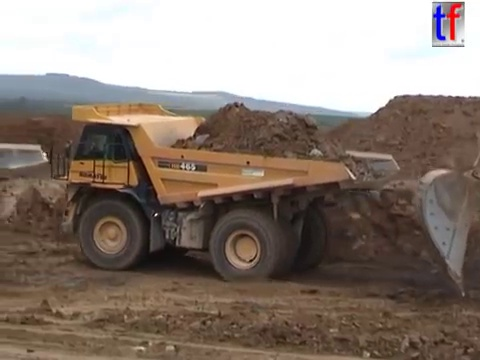excavator: (410, 150, 480, 299)
truck: (39, 99, 402, 284), (1, 140, 52, 181)
